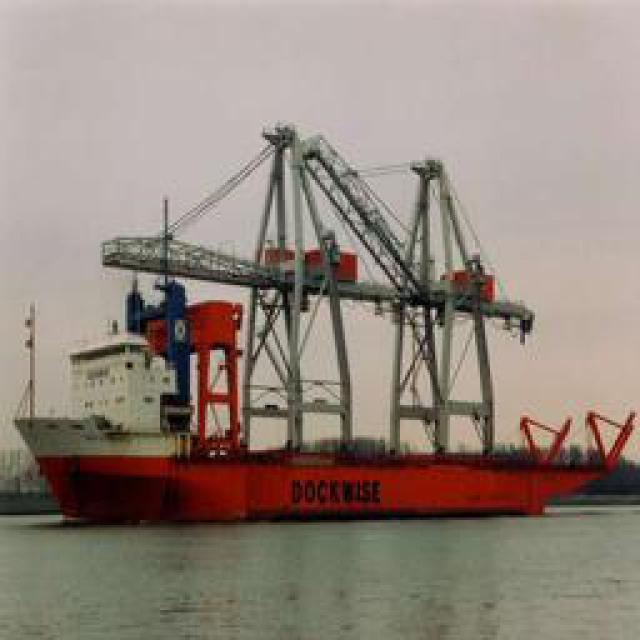Ship: (11, 131, 611, 521)
